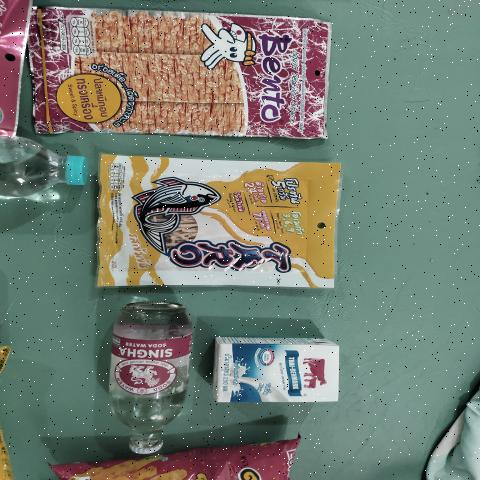bento_red: (46, 14, 326, 132)
singha_soda: (100, 302, 181, 452)
taro_yellow: (106, 162, 330, 286)
thai_denmark: (209, 332, 347, 404)
